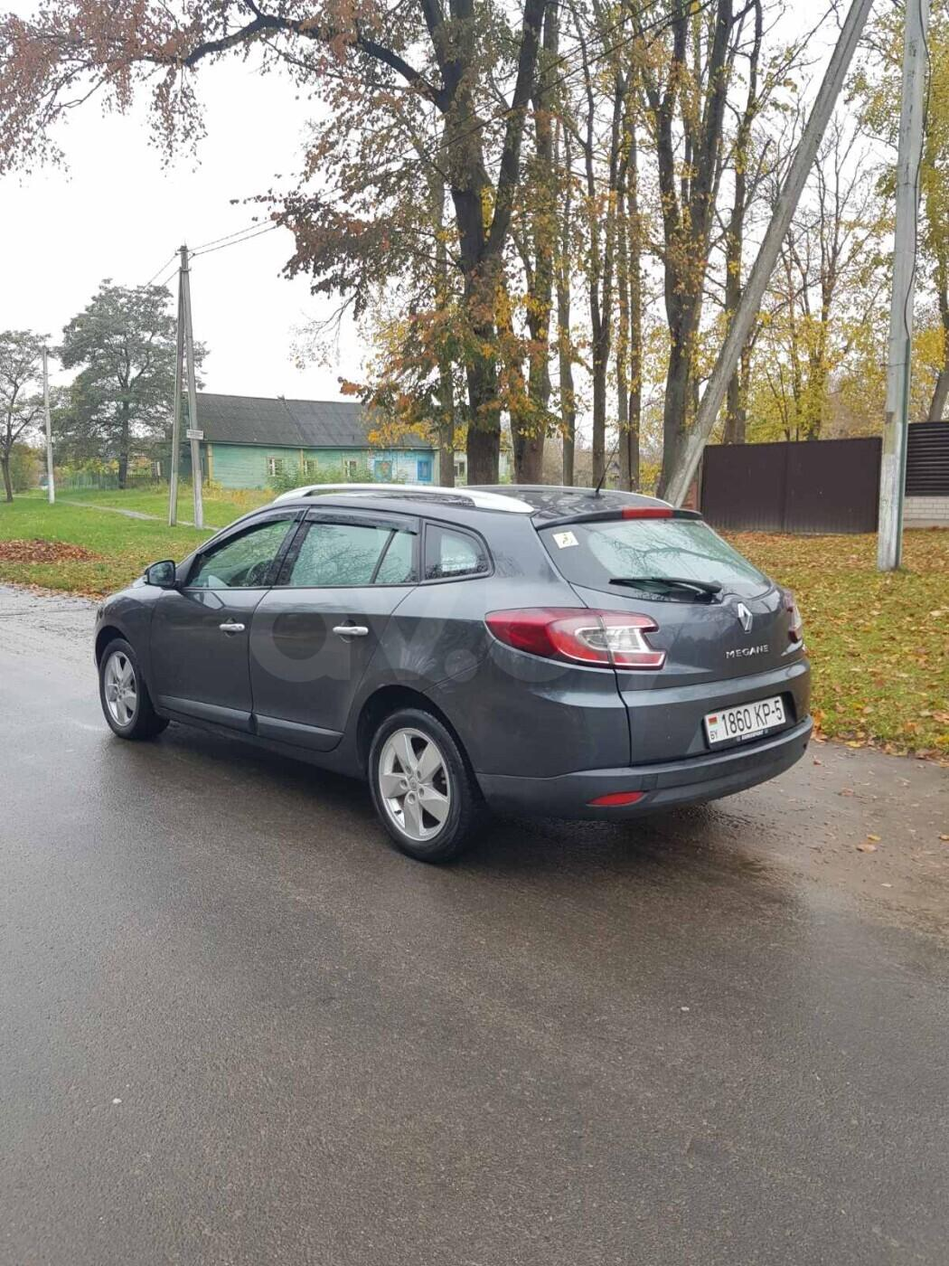Megane_2008-2014: (89, 483, 833, 868)
